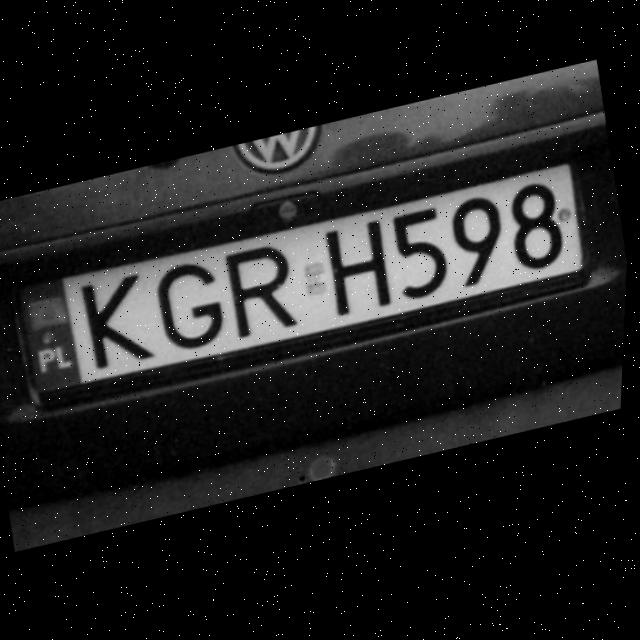license-plates: (18, 163, 590, 403)
